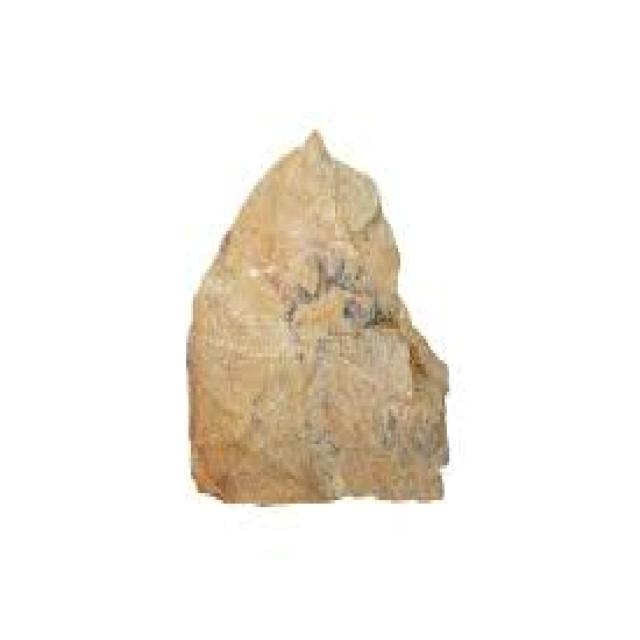Metamorphic: (170, 133, 451, 514)
